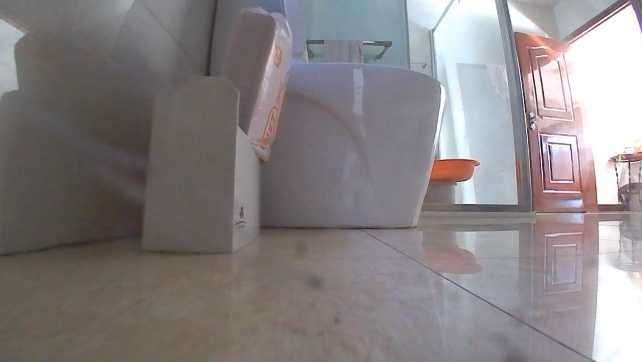door_anno: (514, 28, 598, 214)
toilet: (206, 1, 450, 230)
